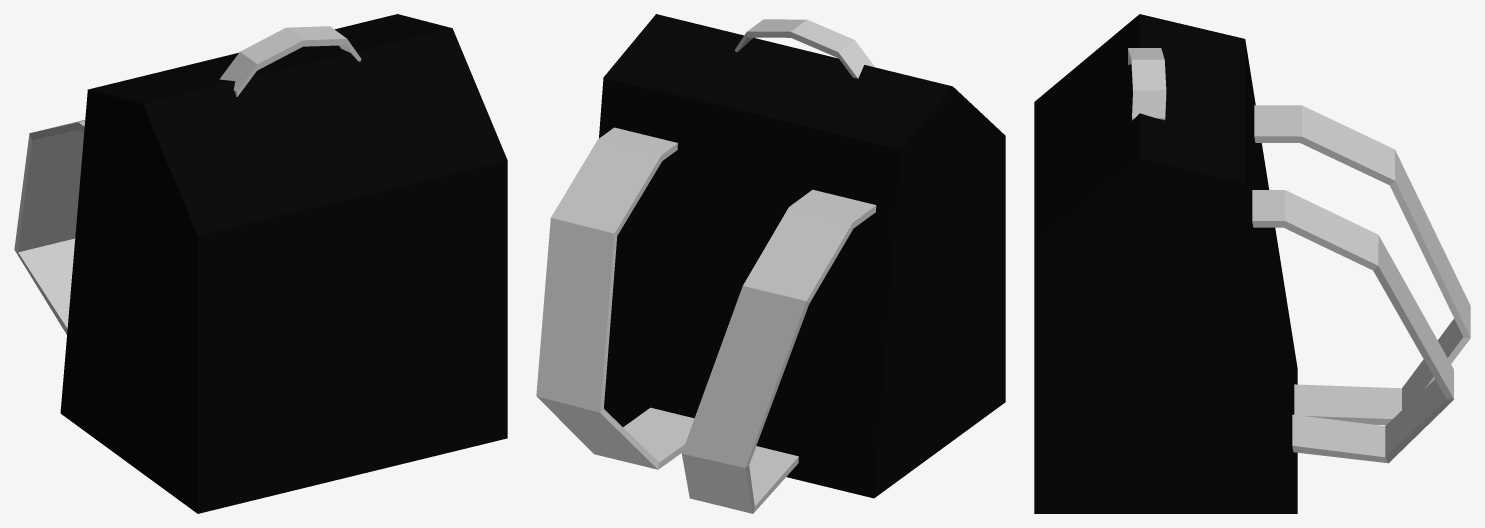
File: backpack.fbx
The picture shows the model from 3 angles, left to right: view 1: azimuth 30°, elevation 25°; view 2: azimuth 150°, elevation 25°; view 3: azimuth 270°, elevation 25°; orthographic projection. The views are drawn at different scales.
Visible parts, largest first — view 1: batoh; view 2: batoh; view 3: batoh.
Part boxes in pixels (x1,y1,x2,y2): batoh: (14, 14, 507, 513); batoh: (536, 14, 1005, 513); batoh: (1034, 14, 1470, 513).
Bounding box in the file's own units: 36.68 × 45.07 × 46.65.
